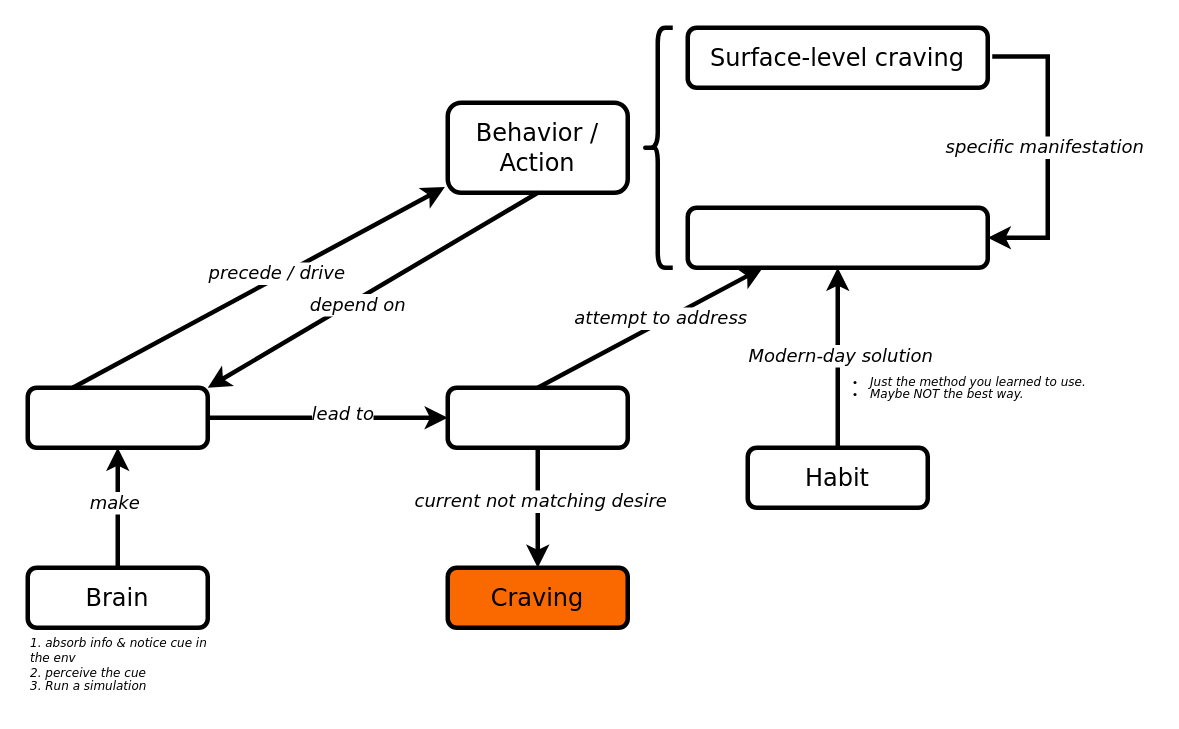
The diagram is 1179 pixels wide and 729 high, and some of its shapes have lost their labels. The centre of each missing label's shape, as x and y in pixels:
Feeling: (537,417)
Prediction: (117,417)
Underlying motive: (837,237)
